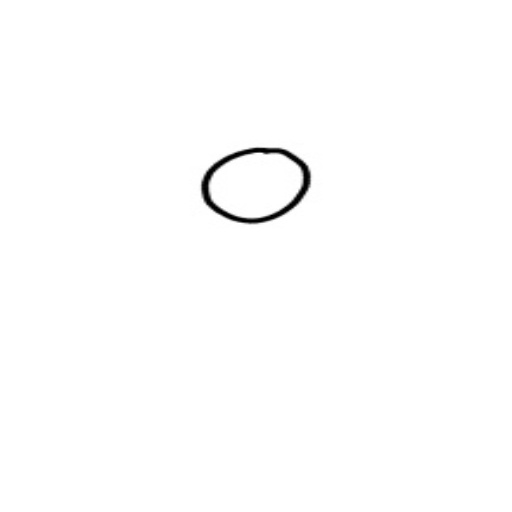circle: (193, 131, 324, 235)
